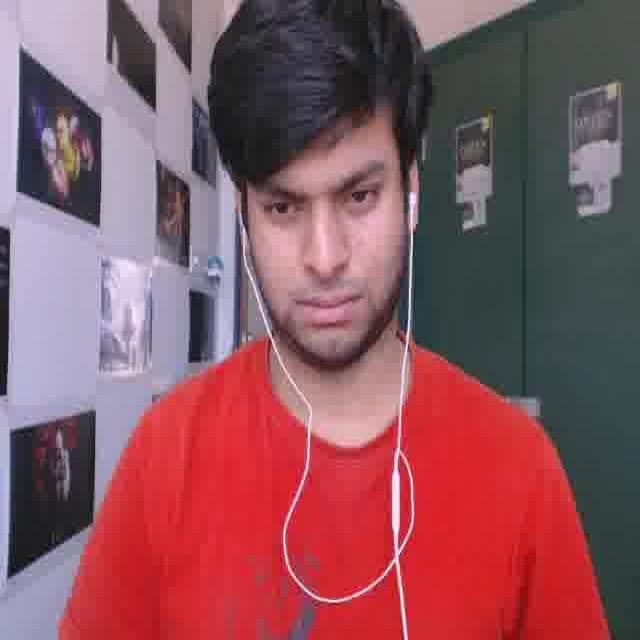Confusion: (243, 107, 401, 361)
